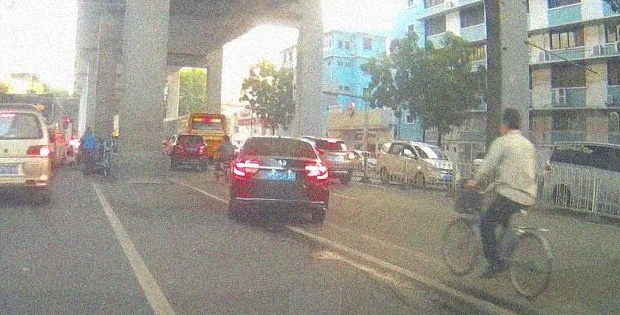L_light: (232, 162, 259, 176), (178, 145, 184, 154)
R_light: (304, 165, 327, 179), (199, 146, 205, 155)
T_light: (274, 154, 289, 156), (187, 136, 193, 138)
day-brake: (228, 136, 329, 223)
day-no: (174, 135, 208, 171)
